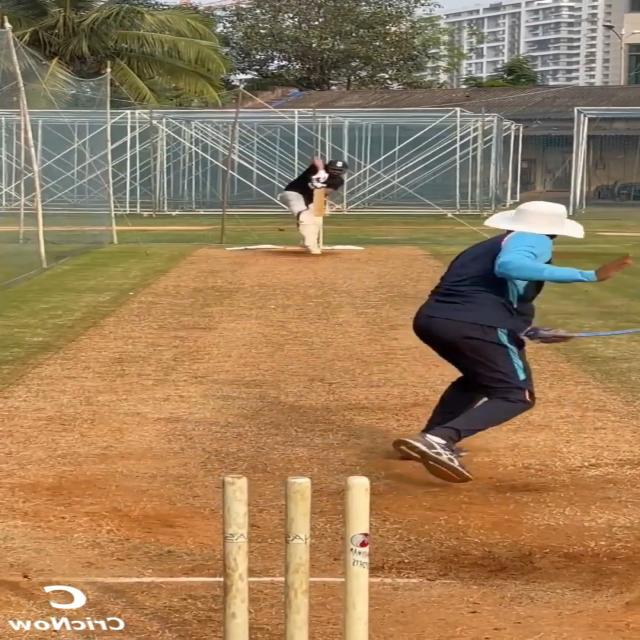ball: (278, 228, 285, 231)
stump: (222, 475, 372, 640)
